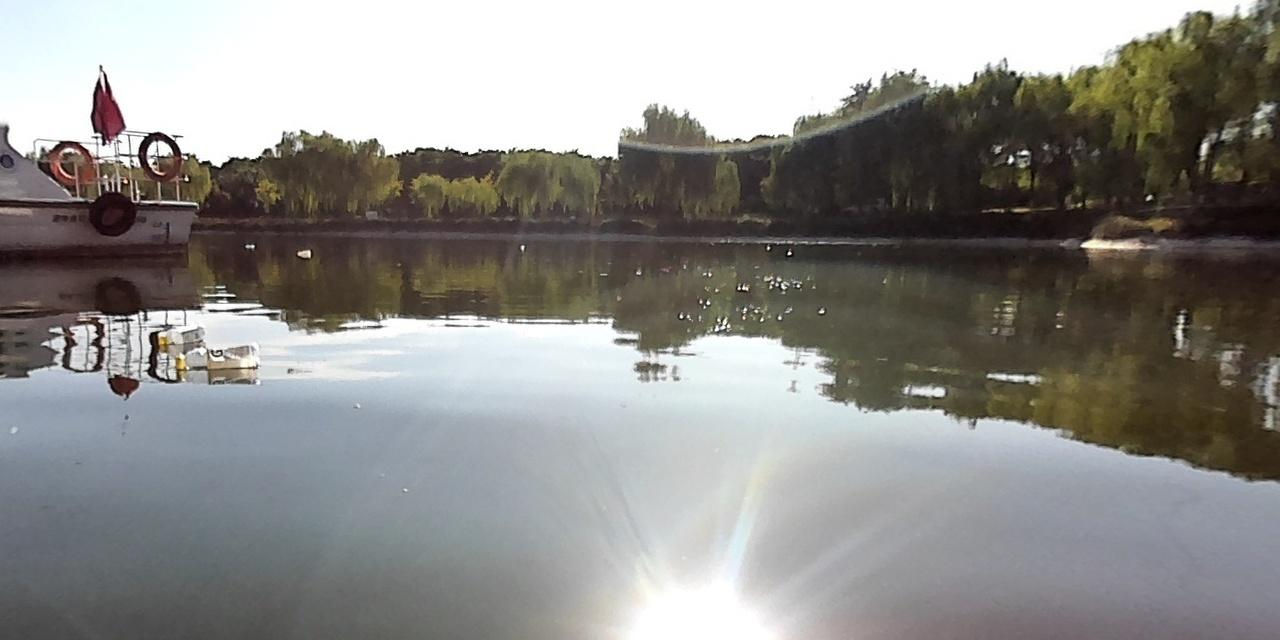bottle: (172, 344, 257, 370), (155, 326, 202, 344), (294, 248, 310, 257)
